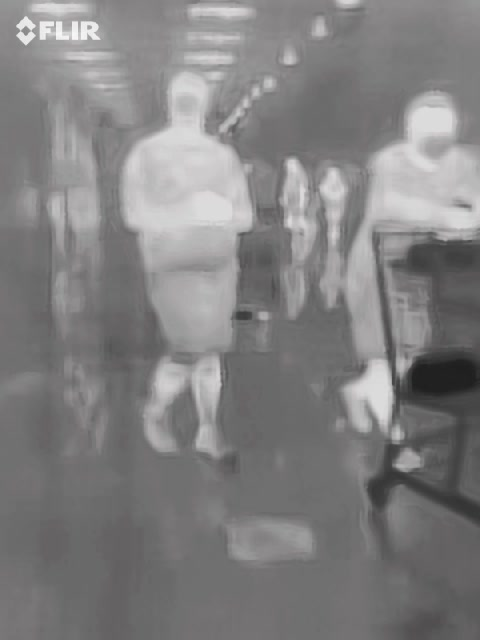head: (406, 88, 458, 155), (168, 73, 207, 128)
